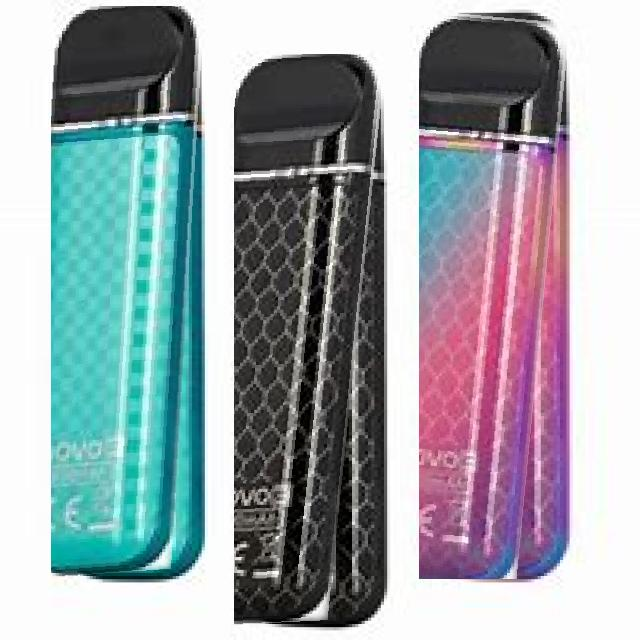Vapes: (51, 6, 205, 580), (234, 54, 387, 628), (419, 10, 570, 579)
